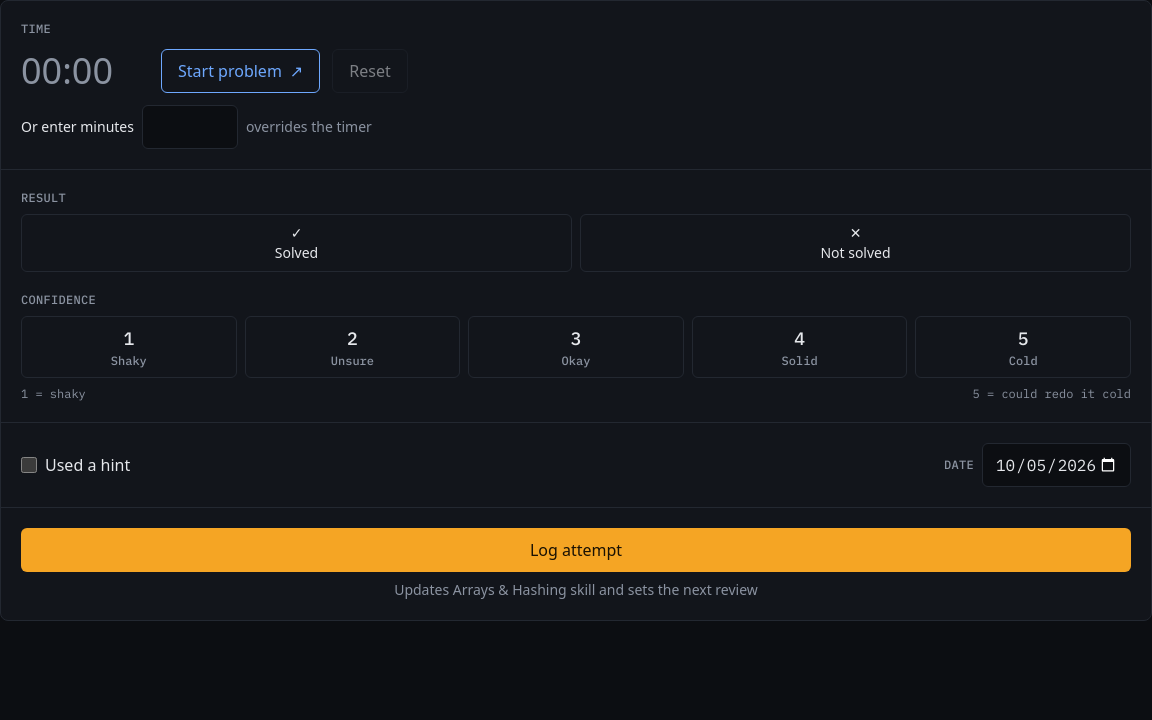
Test: Start problem starts the timer and opens LeetCode, without submitting
Click the radio button labelled "Solved" at (296, 243), box top-left (21, 214), bottom-right (572, 272)
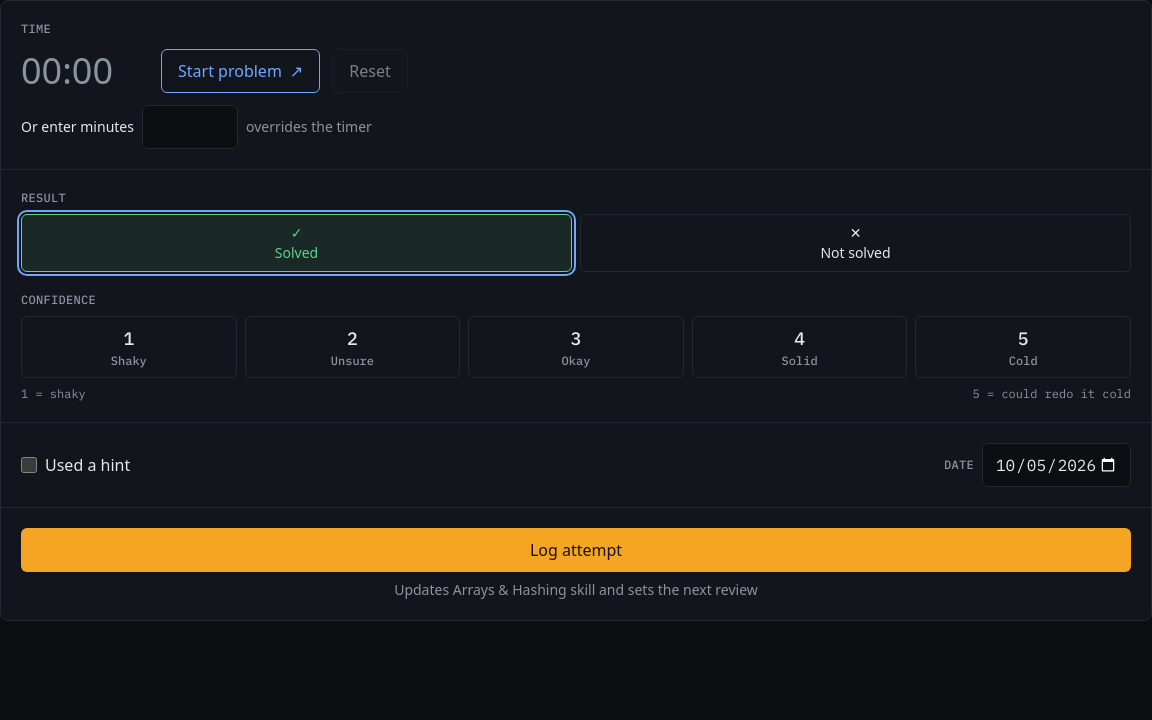
Click the radio button labelled "4 Solid" at (800, 347), box top-left (692, 316), bottom-right (907, 378)
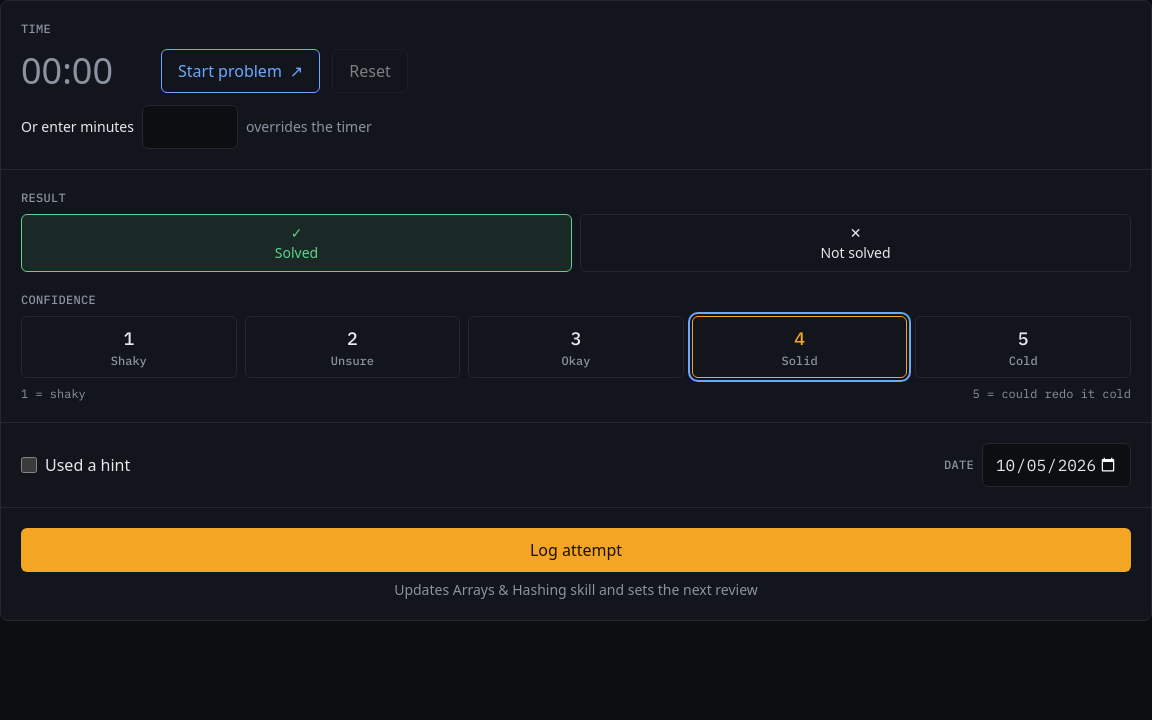
Click the button "Start problem ↗" at (241, 71), box top-left (161, 49), bottom-right (320, 93)
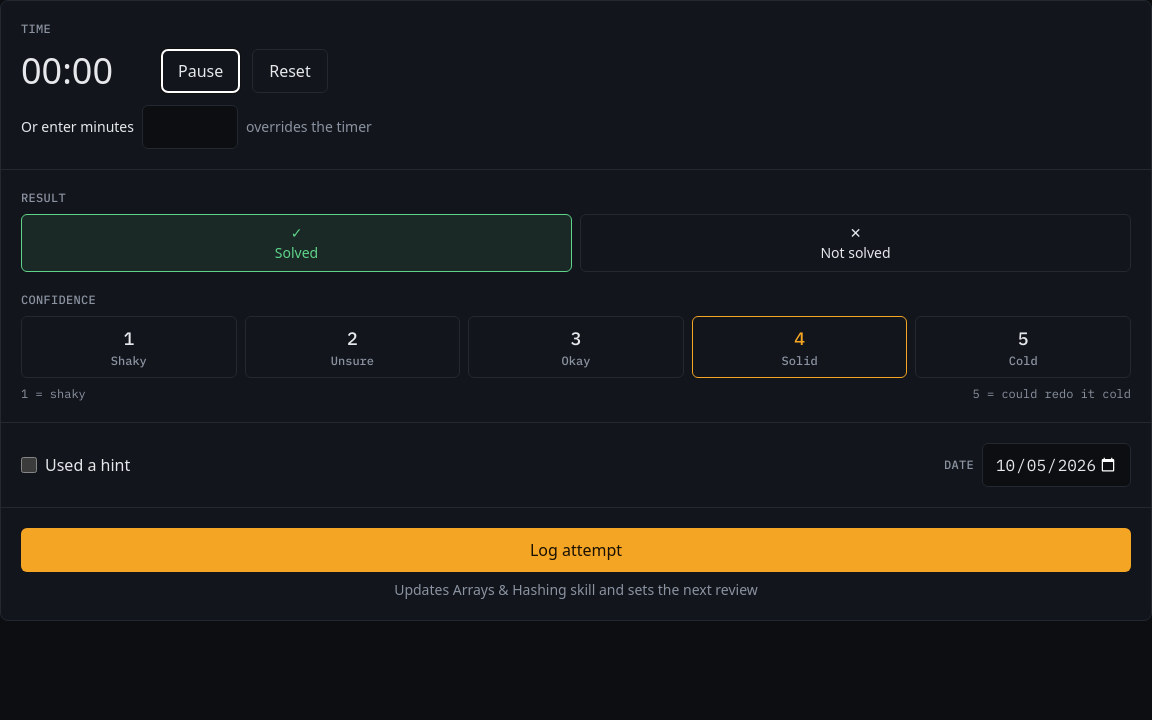
expect the button "Pause" is shown: met, box top-left (161, 49), bottom-right (240, 93)
